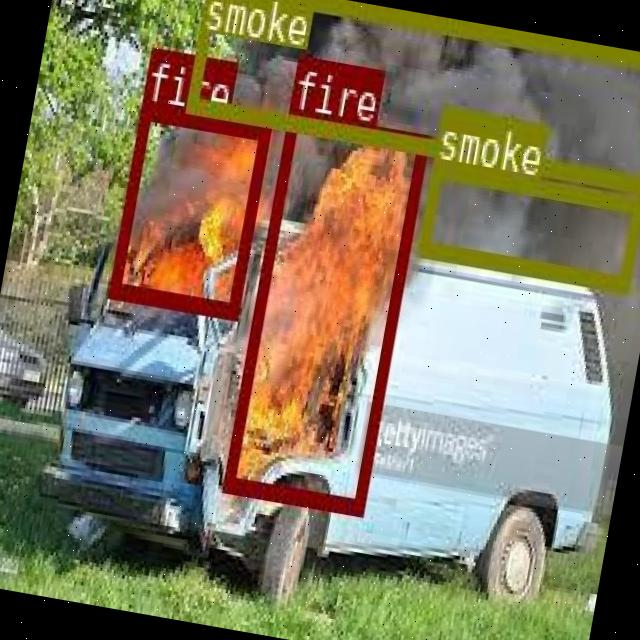fire: (222, 110, 428, 514), (108, 98, 270, 316)
smoke: (184, 0, 640, 191), (415, 158, 640, 288)
